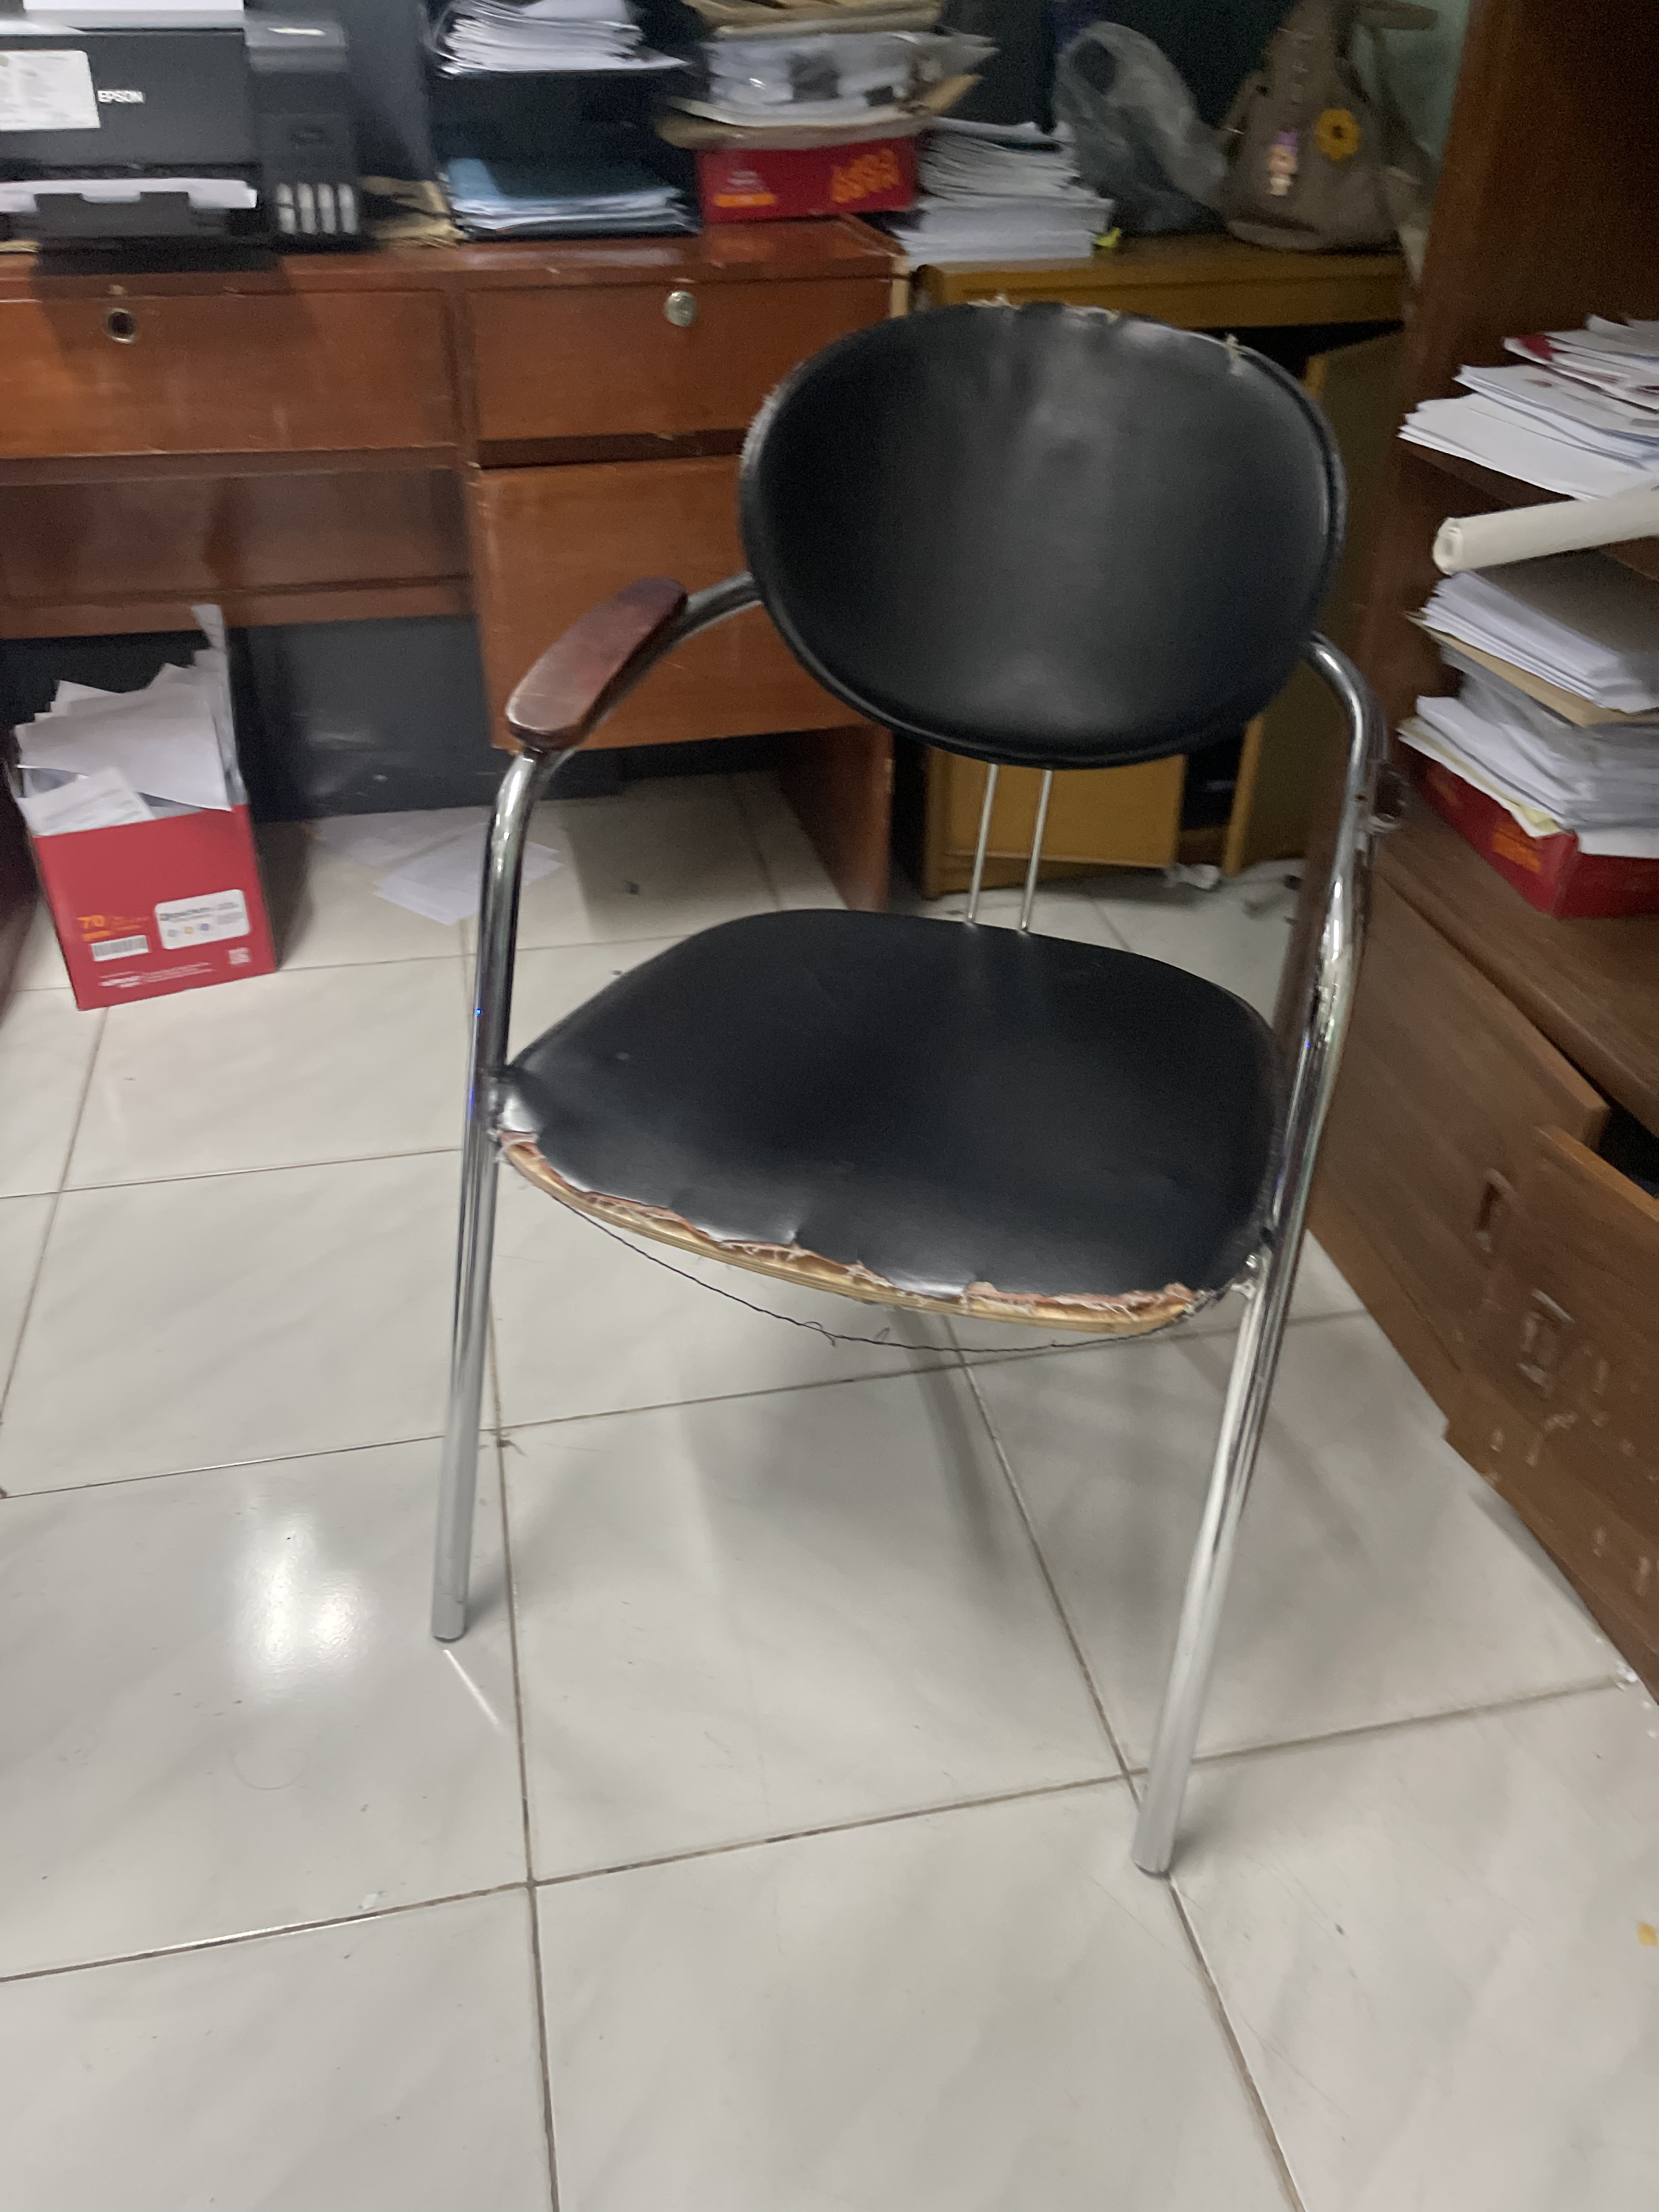chair1: (434, 298, 1405, 1890)
